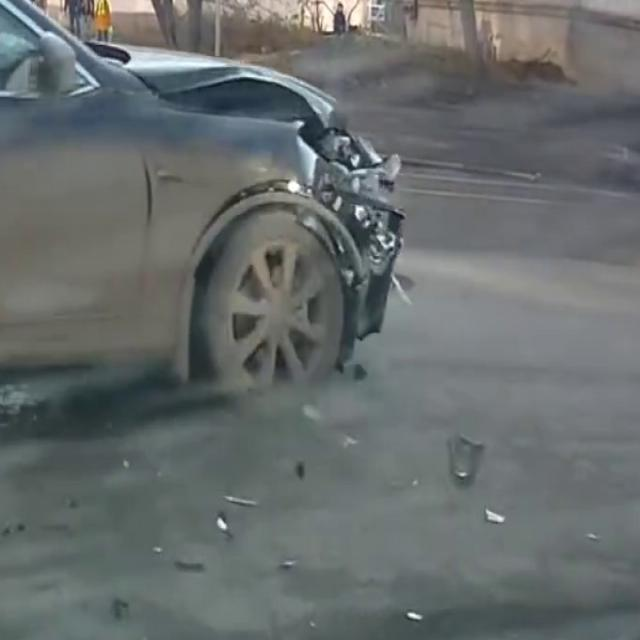accident: (58, 0, 447, 429)
